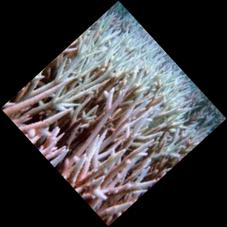bleached_corals: (1, 2, 226, 227)
